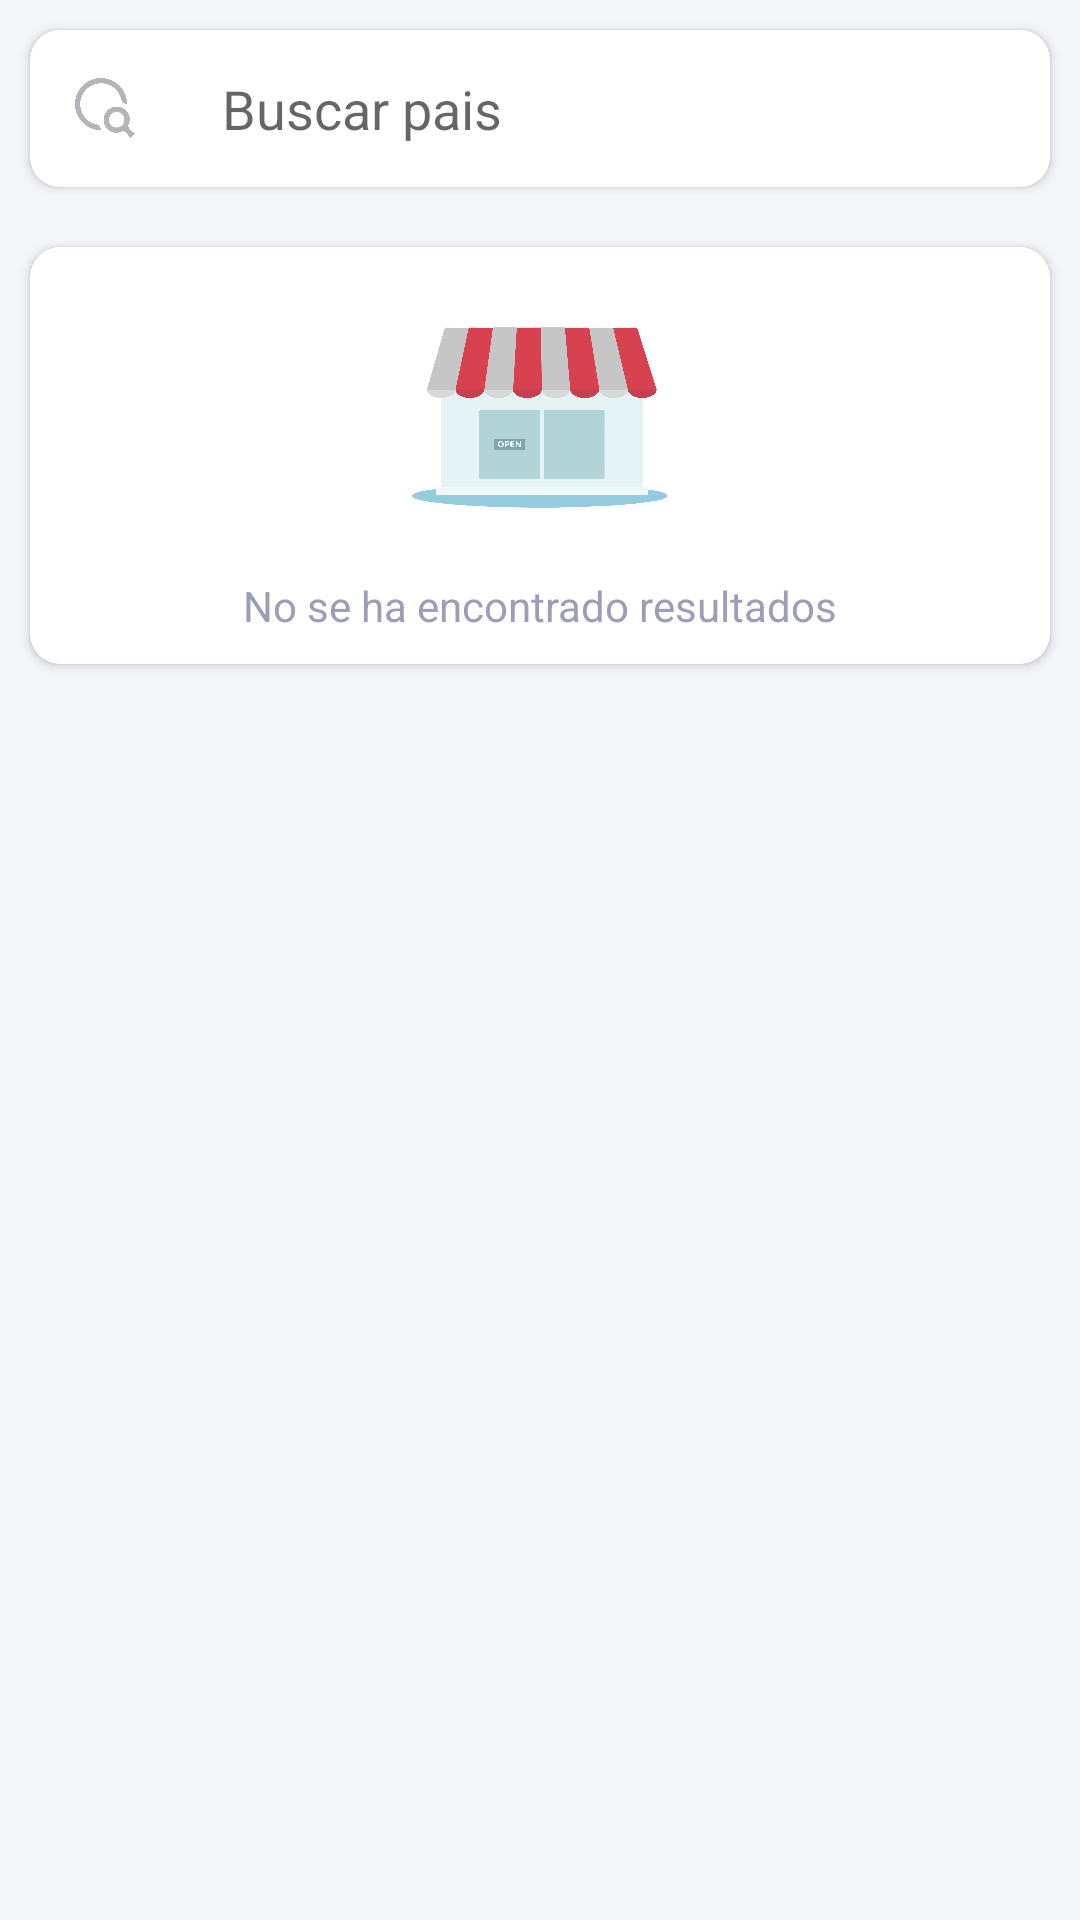

Locate icon controls on the screen. Image size 1080px×1920px, boxes as (x1, y1, x2, y2).
search: (75, 78, 135, 138)
store: (412, 327, 668, 508)
